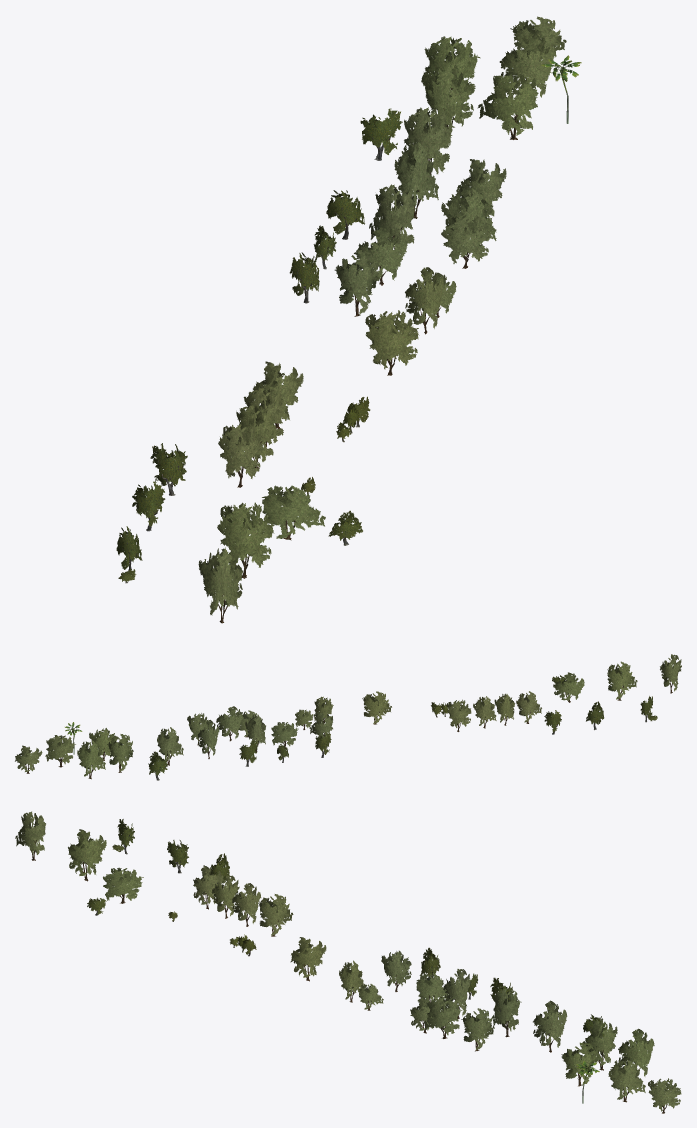
3 views of the same model, one above another, from view 1: azimuth 30°, elevation 25°; view 2: azimuth 150°, elevation 25°; view 3: azimuth 270°, elevation 25° (orthographic). The views are drawn at different scales.
Visible parts, largest first — view 1: jacaranda_tree street foliage, island_tree_01 street foliage, jacaranda_tree park bark; view 2: jacaranda_tree street foliage, island_tree_01 street foliage, jacaranda_tree park bark; view 3: jacaranda_tree street foliage, island_tree_01 street foliage, jacaranda_tree park bark.
Part boxes in pixels (bbox=[...]): jacaranda_tree street foliage: bbox=[198, 16, 566, 615]; island_tree_01 street foliage: bbox=[116, 108, 402, 581]; jacaranda_tree park bark: bbox=[218, 79, 526, 623]; jacaranda_tree street foliage: bbox=[15, 654, 681, 776]; island_tree_01 street foliage: bbox=[148, 675, 657, 775]; jacaranda_tree park bark: bbox=[25, 680, 672, 779]; jacaranda_tree street foliage: bbox=[15, 811, 681, 1111]; island_tree_01 street foliage: bbox=[87, 819, 607, 1041]; jacaranda_tree park bark: bbox=[31, 840, 666, 1113].
Bounding box in the file's own units: 235 × 20.68 × 242.
Materials: 5 (5 with a texture image).
